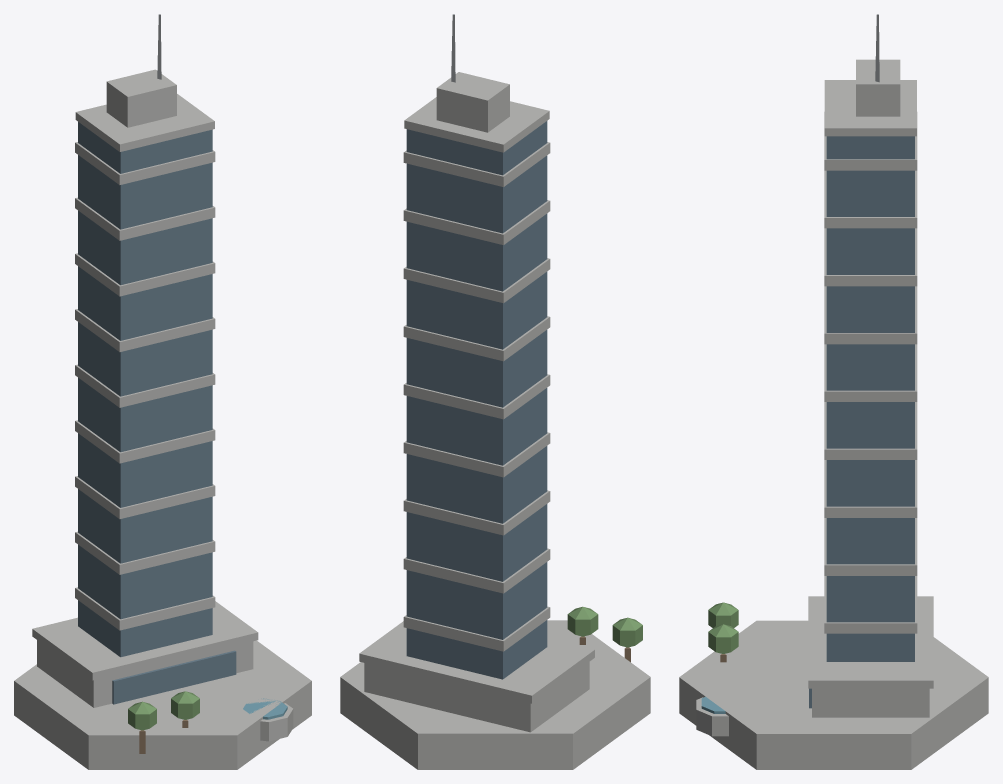
File: center-atomic.glb
3 views of the same model, side by side, from view 1: azimuth 30°, elevation 25°; view 2: azimuth 150°, elevation 25°; view 3: azimuth 270°, elevation 25° (orthographic). The views are drawn at different scales.
Visible parts, largest first — view 1: LOD0; view 2: LOD0; view 3: LOD0.
Boxes of the visible parts, x1=… form: LOD0: x1=14, y1=14, x2=311, y2=769; LOD0: x1=340, y1=14, x2=650, y2=769; LOD0: x1=679, y1=14, x2=988, y2=769.
Size of what is drawn, in the model's own units: 0.3637 by 1.06 by 0.42.
